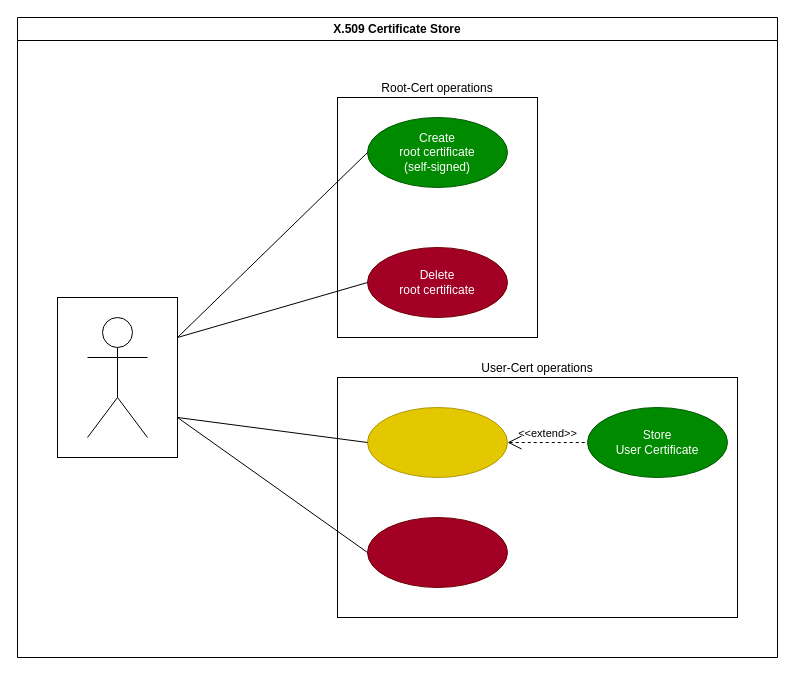
Image size: 795x675. Some labels were removed from this diagram. The shapes that lost their labels are listed below. From the top down, each one's centre as x and y in pixels, then its label:
the point at 117,377: User
the point at 437,442: Sign User Certificate (Upload CSR)
the point at 437,552: Delete User Certificate
